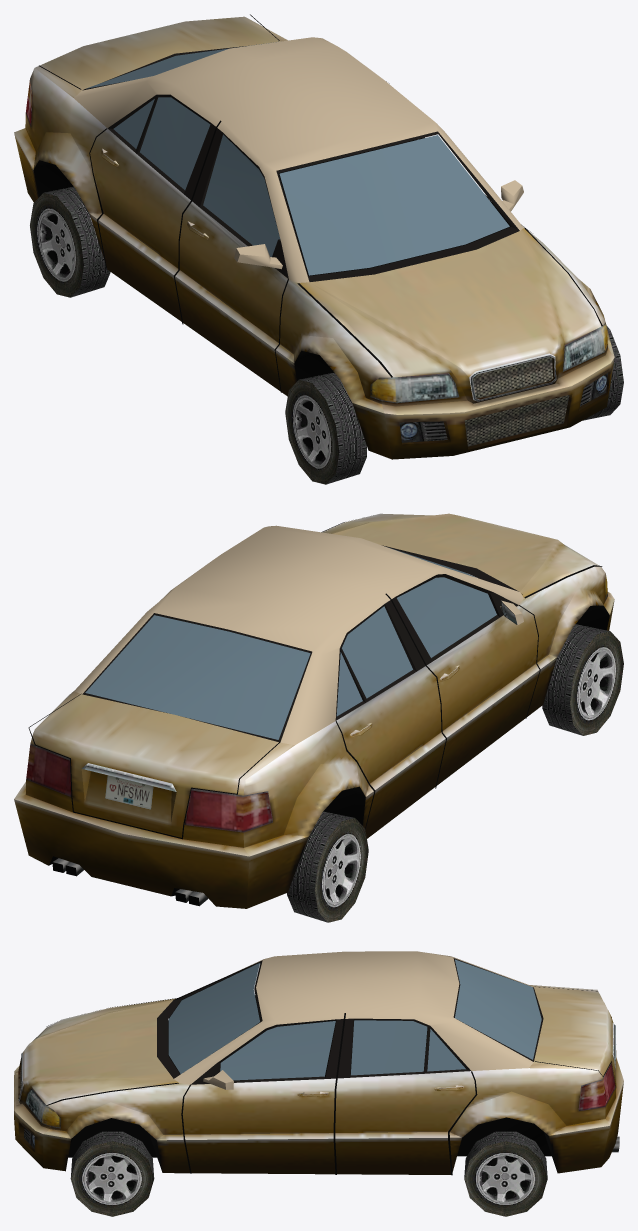
The model's file is traf4dsedb.glb.
3 views of the same model, one above another, from view 1: azimuth 30°, elevation 25°; view 2: azimuth 150°, elevation 25°; view 3: azimuth 270°, elevation 25° (orthographic). The views are drawn at different scales.
Visible parts, largest first — view 1: body, wheel-front-left, wheel-back-left, wheel-front-right; view 2: body, wheel-front-left, wheel-back-left; view 3: body, wheel-back-right, wheel-front-right.
Boxes of the visible parts, x1,y1,x2,y2 form: body: (14, 14, 614, 459); wheel-front-left: (285, 372, 366, 484); wheel-back-left: (30, 186, 110, 297); wheel-front-right: (582, 325, 623, 420); body: (14, 513, 614, 908); wheel-front-left: (542, 624, 623, 735); wheel-back-left: (287, 811, 368, 922); body: (14, 951, 623, 1175); wheel-back-right: (464, 1131, 547, 1216); wheel-front-right: (70, 1131, 154, 1216).
Bounding box in the file's own units: 1.88 × 1.51 × 4.5.
Materials: 8 (7 with a texture image).
